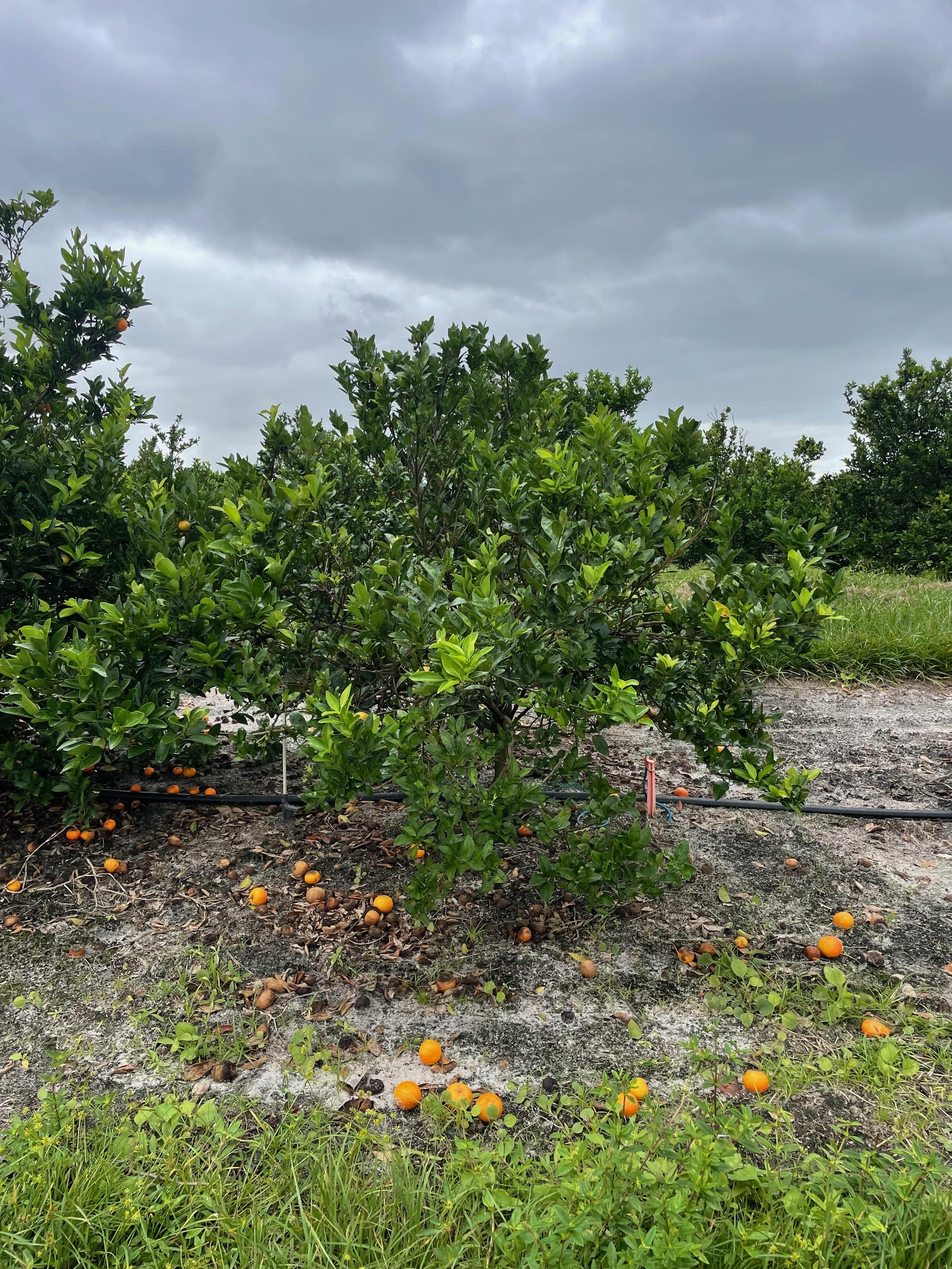fruit_on_ground: (110, 315, 130, 333), (176, 518, 193, 534)
fruit_on_tree: (392, 1079, 423, 1110), (475, 1090, 505, 1122), (443, 1080, 474, 1110), (741, 1066, 771, 1095), (417, 1036, 444, 1065), (612, 1092, 640, 1118), (859, 1015, 891, 1037), (816, 933, 843, 957), (626, 1075, 650, 1099), (830, 908, 856, 930), (252, 987, 275, 1010), (372, 893, 396, 914), (578, 958, 600, 980), (248, 884, 270, 906), (436, 972, 458, 993), (406, 840, 427, 860), (676, 945, 696, 965), (800, 943, 821, 962), (303, 867, 324, 885), (303, 884, 324, 902), (363, 907, 382, 926), (110, 858, 130, 876), (515, 925, 534, 943), (290, 858, 309, 876), (355, 1096, 375, 1113), (516, 821, 535, 838), (698, 939, 717, 956), (66, 942, 86, 958), (270, 973, 288, 990), (3, 912, 21, 928), (733, 932, 749, 950), (672, 783, 690, 799), (323, 894, 340, 910), (103, 855, 120, 871), (5, 877, 22, 893), (782, 855, 800, 869), (70, 827, 87, 841), (168, 833, 184, 847), (65, 825, 80, 839), (80, 827, 95, 841), (165, 781, 180, 795), (102, 816, 117, 830), (182, 765, 198, 778), (203, 785, 218, 797), (172, 765, 186, 777), (187, 785, 200, 797), (113, 800, 126, 811), (129, 781, 141, 792), (143, 765, 155, 776)
